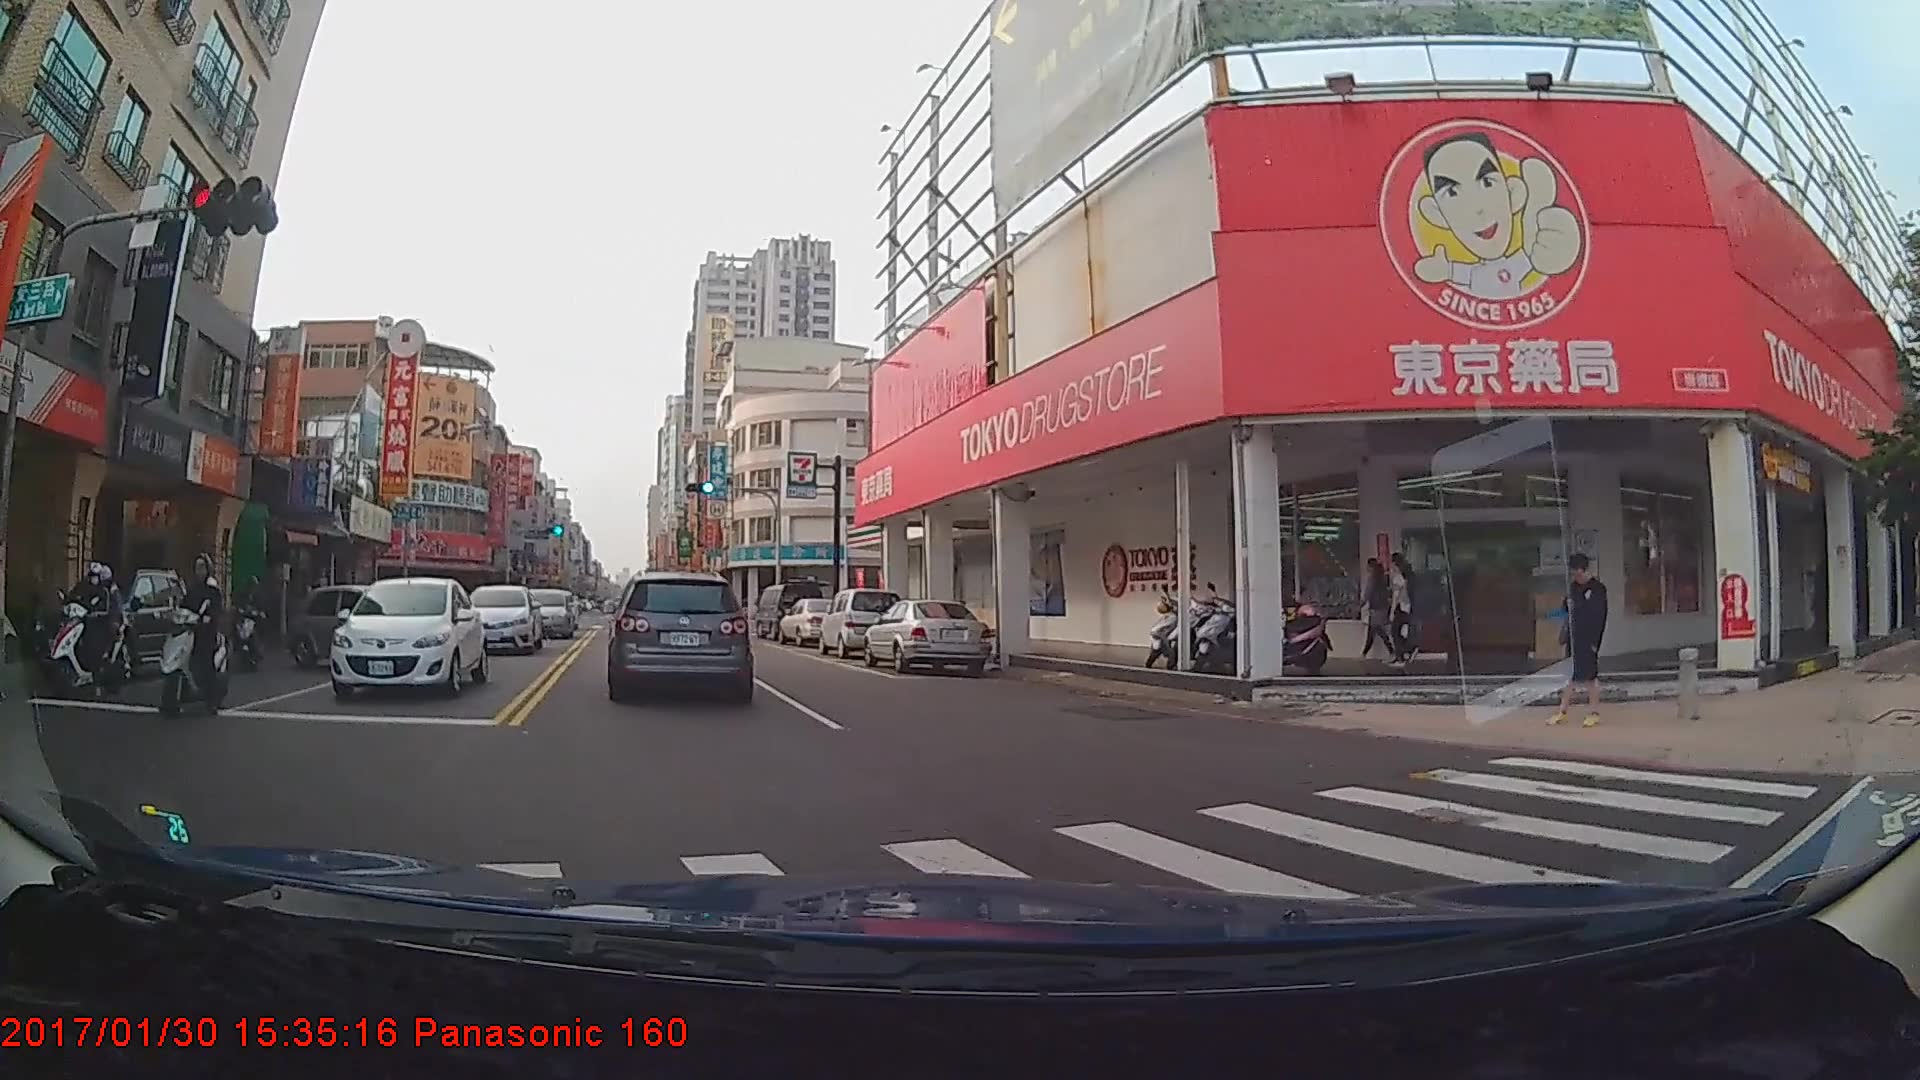pedestrian: (1550, 551, 1616, 729), (1360, 553, 1402, 665), (1388, 549, 1416, 667)
rider: (148, 550, 239, 720), (34, 559, 143, 698)
vehicle: (327, 575, 487, 700), (30, 562, 194, 680), (612, 571, 749, 702), (285, 580, 435, 669), (860, 598, 992, 676), (820, 587, 904, 659), (459, 583, 543, 654), (757, 582, 822, 638), (778, 595, 857, 641), (520, 587, 573, 638)
